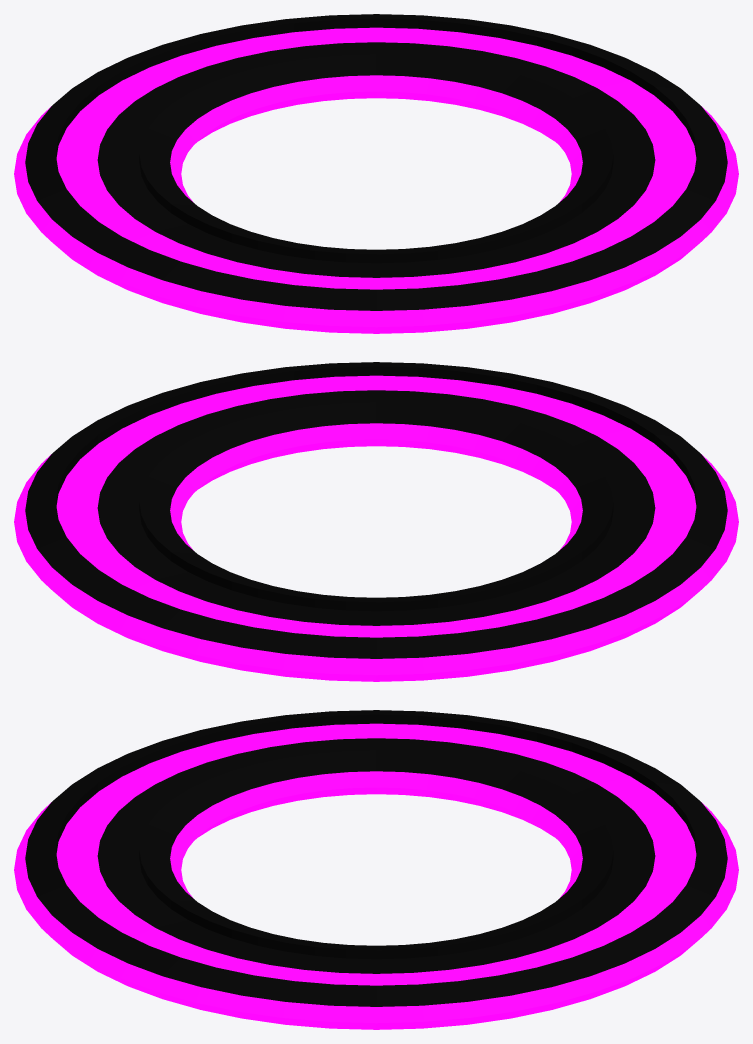
The model's file is tron-disc-purple.glb.
The picture shows the model from 3 angles, top to bottom: view 1: azimuth 30°, elevation 25°; view 2: azimuth 150°, elevation 25°; view 3: azimuth 270°, elevation 25°; orthographic projection.
Parts seen in each view (by area): view 1: Torus; view 2: Torus; view 3: Torus.
Part boxes in pixels (x1,y1,x2,y2): Torus: (14,14,738,333); Torus: (14,362,738,681); Torus: (14,710,738,1029).
Bounding box in the file's own units: 2.6 × 0.157 × 2.6.
